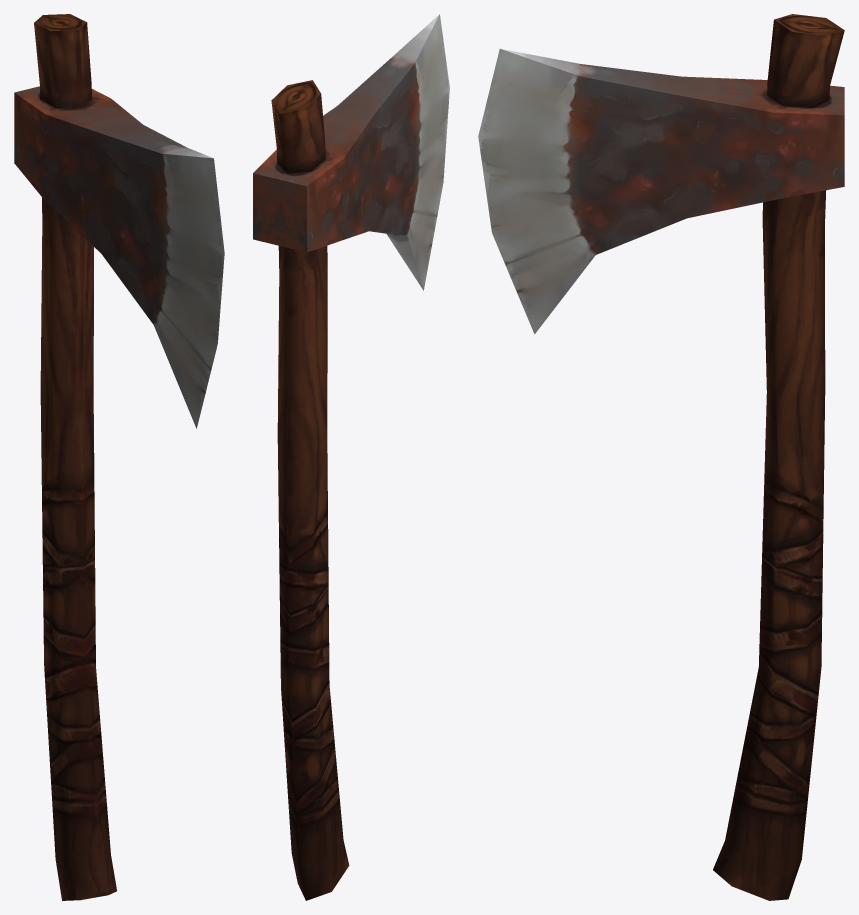
File: Axe00_mesh.FBX
The picture shows the model from 3 angles, left to right: view 1: azimuth 30°, elevation 25°; view 2: azimuth 150°, elevation 25°; view 3: azimuth 270°, elevation 25°; orthographic projection. The views are drawn at different scales.
Visible parts, largest first — view 1: Axe00_mesh; view 2: Axe00_mesh; view 3: Axe00_mesh.
Part boxes in pixels (left/top/right/bottom): Axe00_mesh: left=14, top=14, right=224, bottom=900; Axe00_mesh: left=253, top=14, right=449, bottom=900; Axe00_mesh: left=478, top=14, right=844, bottom=900.
Bounding box in the file's own units: 5.94 × 75.58 × 28.54.
